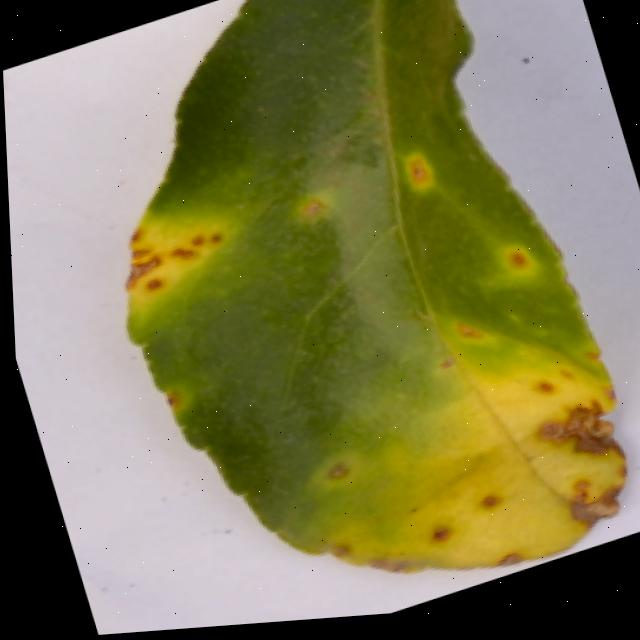canker: (125, 0, 624, 571), (297, 363, 623, 584), (70, 159, 273, 344), (130, 369, 234, 433), (437, 303, 521, 364), (391, 146, 450, 200), (499, 234, 546, 286)
